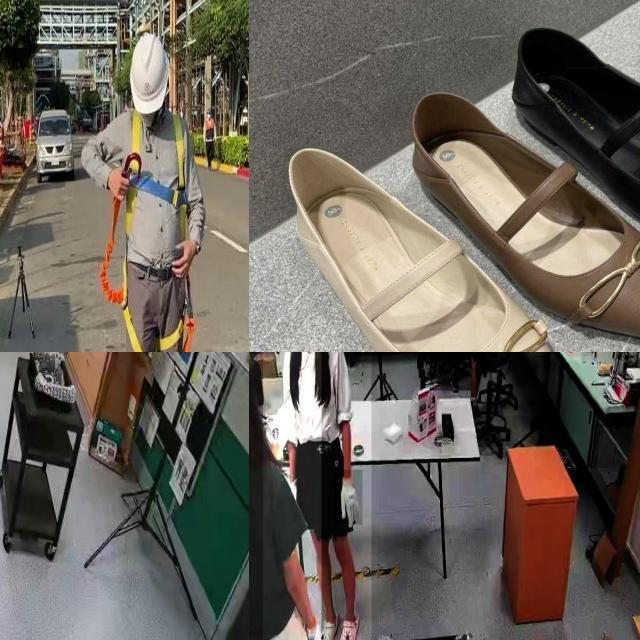Harness: (123, 110, 188, 240), (100, 199, 148, 352), (152, 282, 196, 352)
Sandals: (274, 135, 594, 352), (395, 78, 640, 352), (501, 11, 640, 274)
hand_glove: (334, 470, 363, 526)
person: (263, 352, 372, 640), (249, 352, 322, 640), (429, 352, 472, 391)
